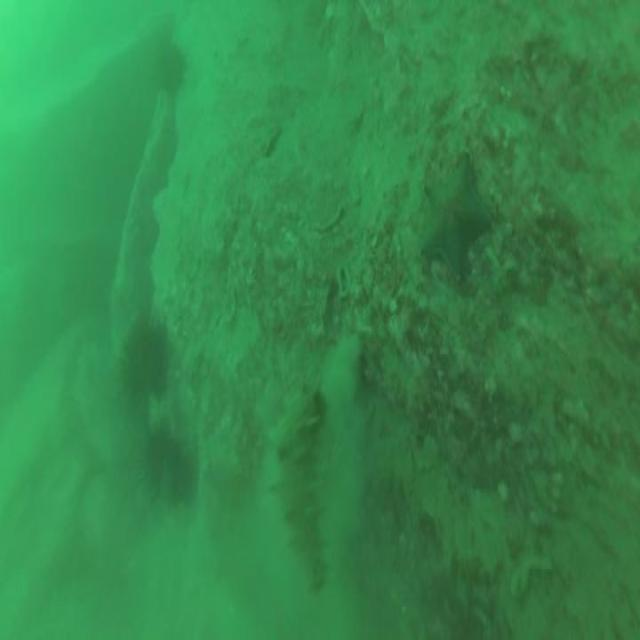echinus: (122, 316, 169, 392), (140, 428, 170, 495), (156, 42, 185, 92)
scallop: (276, 387, 330, 597)
starfish: (421, 161, 492, 285)
